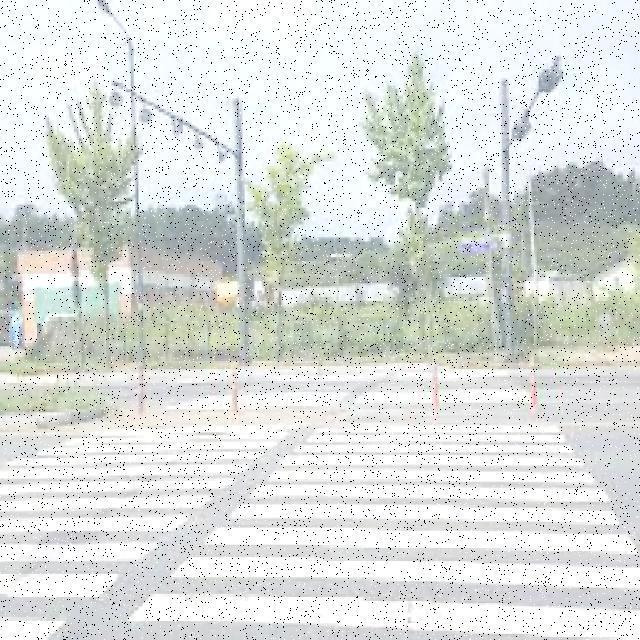Pedestrian crosswalk: (2, 366, 640, 638)
